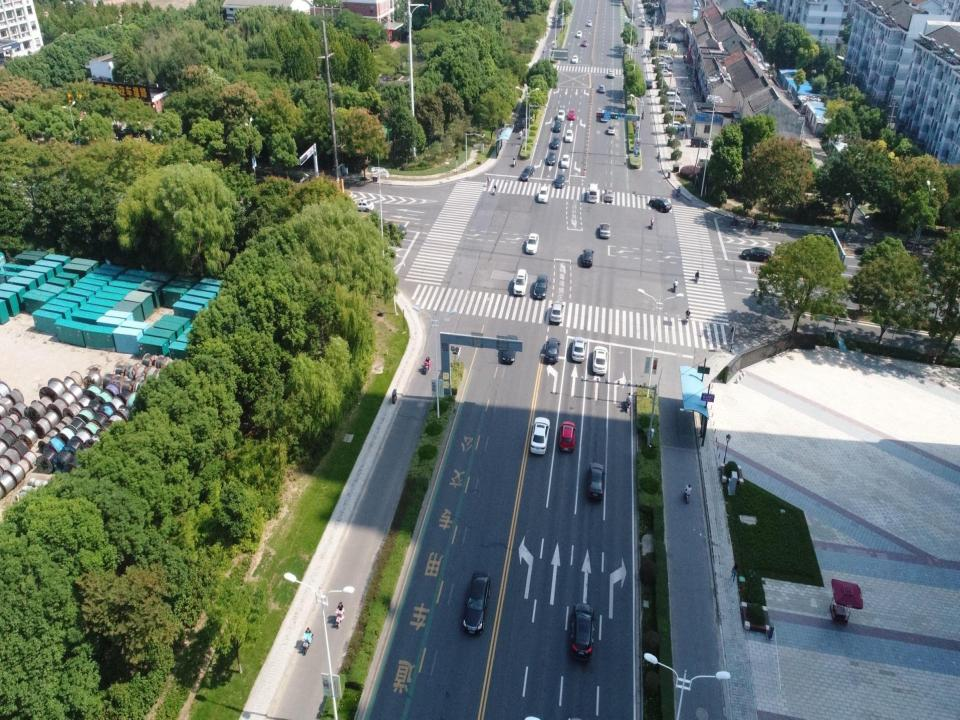car: (460, 570, 494, 635), (571, 600, 594, 658), (528, 413, 550, 457), (586, 460, 605, 498), (558, 417, 574, 455), (592, 344, 609, 376), (739, 246, 773, 262), (571, 335, 588, 363), (513, 266, 528, 296), (543, 337, 560, 362), (533, 274, 549, 300), (648, 197, 673, 212), (549, 300, 564, 324), (385, 221, 407, 237), (525, 232, 540, 254), (354, 199, 374, 212), (537, 186, 550, 205), (518, 166, 535, 180), (583, 247, 594, 267), (600, 222, 611, 238), (668, 121, 687, 130), (555, 173, 565, 189), (604, 188, 615, 202), (654, 40, 668, 50), (671, 113, 685, 123), (564, 129, 574, 142), (560, 154, 569, 168), (547, 152, 556, 165), (551, 136, 560, 149), (658, 70, 672, 78), (556, 109, 565, 121), (601, 109, 608, 123), (554, 120, 562, 132), (568, 108, 576, 120), (608, 123, 615, 135), (668, 35, 680, 42), (571, 54, 579, 64), (646, 79, 653, 89), (599, 84, 605, 92), (608, 69, 614, 77), (582, 40, 588, 47), (577, 30, 582, 37), (587, 20, 592, 27), (646, 50, 651, 56)
van: (666, 98, 686, 111), (587, 182, 598, 203), (691, 134, 706, 148), (665, 92, 680, 103), (698, 157, 712, 166), (663, 55, 673, 65), (657, 61, 669, 69), (658, 54, 668, 63), (648, 16, 658, 24), (640, 20, 646, 27)
